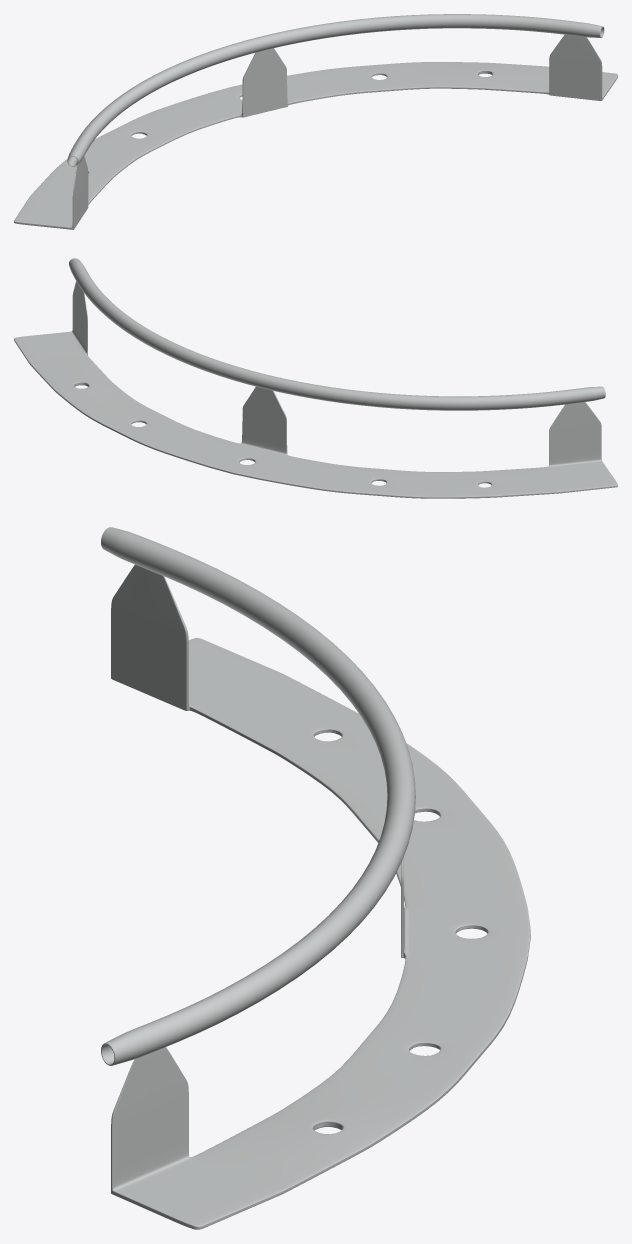
3 renders of one model, top to bottom at view 1: azimuth 30°, elevation 25°; view 2: azimuth 150°, elevation 25°; view 3: azimuth 270°, elevation 25°, orthographic. The views are drawn at different scales.
Parts seen in each view (by area): view 1: base_plate, top_pipe; view 2: base_plate, top_pipe; view 3: base_plate, top_pipe.
Boxes of the visible parts, x1,y1,x2,y2 form: base_plate: (14,34,617,229); top_pipe: (67,14,604,166); base_plate: (14,281,617,498); top_pipe: (69,258,605,410); base_plate: (111,564,530,1229); top_pipe: (101,527,415,1065).
Size of the model in its own units: 10.85 by 1.31 by 3.35.
1 material, 1 textured.
